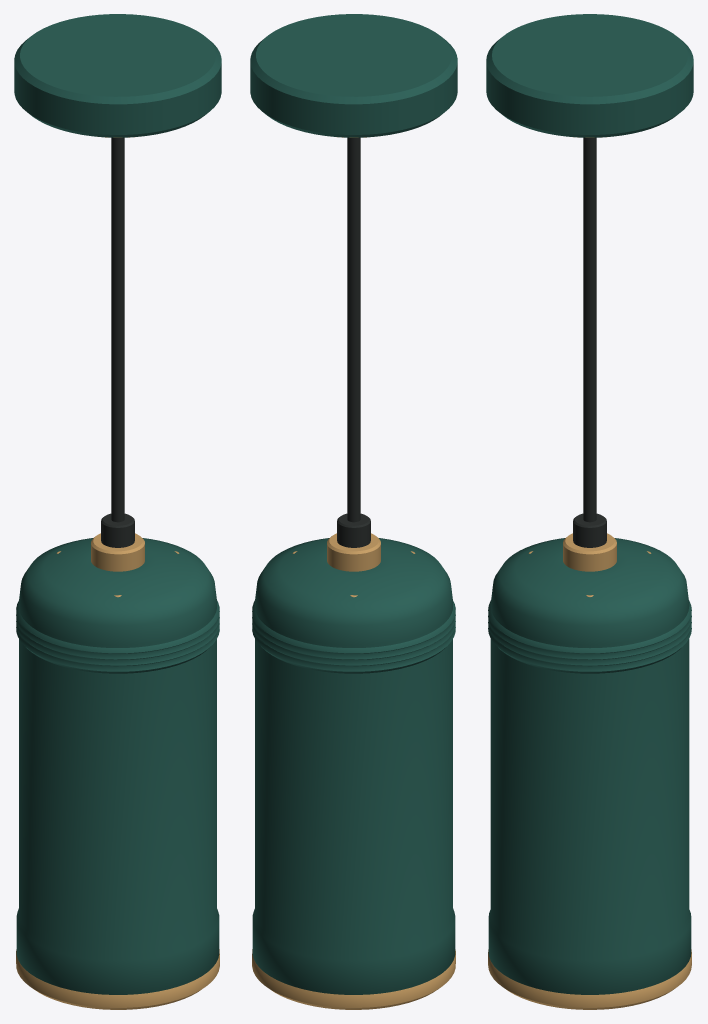
3 views of the same model, side by side, from view 1: azimuth 30°, elevation 25°; view 2: azimuth 150°, elevation 25°; view 3: azimuth 270°, elevation 25° (orthographic).
Visible parts, largest first — view 1: Fixture; view 2: Fixture; view 3: Fixture.
Part boxes in pixels (box(x1,y1,x2,y2)): Fixture: box(14, 14, 221, 1009); Fixture: box(250, 14, 457, 1009); Fixture: box(486, 14, 693, 1009).
Size of the model in its own units: 0.092 by 0.447 by 0.092.
